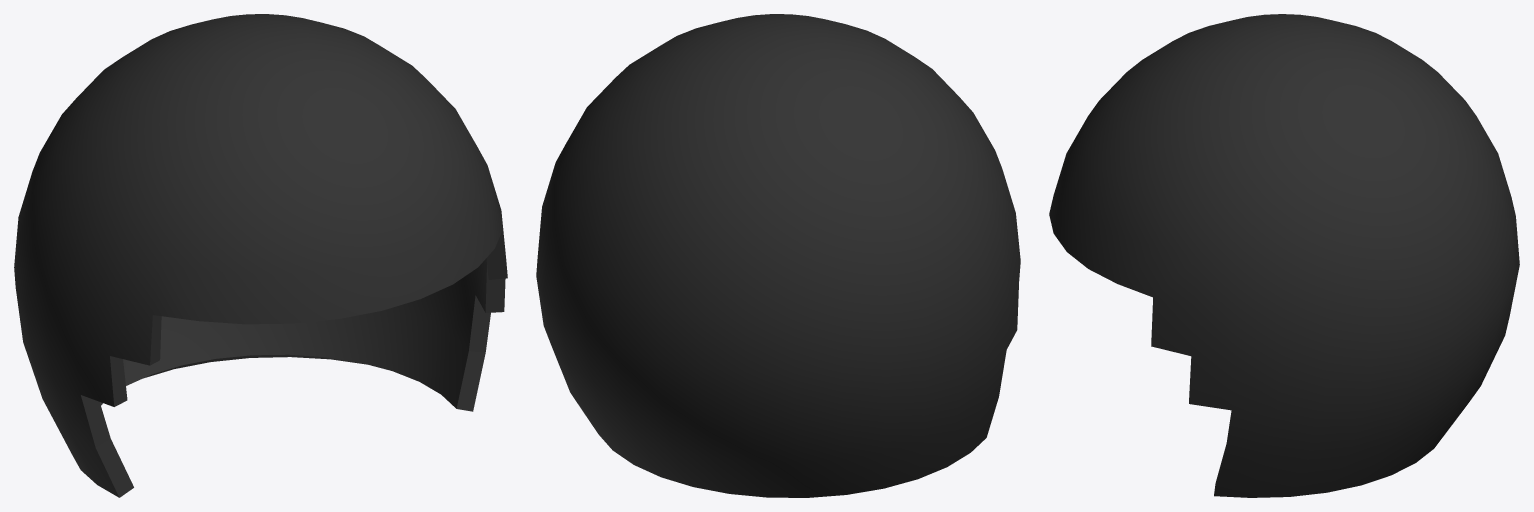
File: NanTouFa.FBX
3 views of the same model, side by side, from view 1: azimuth 30°, elevation 25°; view 2: azimuth 150°, elevation 25°; view 3: azimuth 270°, elevation 25° (orthographic). The views are drawn at different scales.
Parts seen in each view (by area): view 1: TF; view 2: TF; view 3: TF.
Part boxes in pixels (x1=…): TF: x1=14, y1=14, x2=507, y2=497; TF: x1=536, y1=14, x2=1020, y2=497; TF: x1=1049, y1=14, x2=1519, y2=497.
Size of the model in its own units: 25.62 by 22.61 by 25.33.
Materials: 1 (1 with a texture image).
